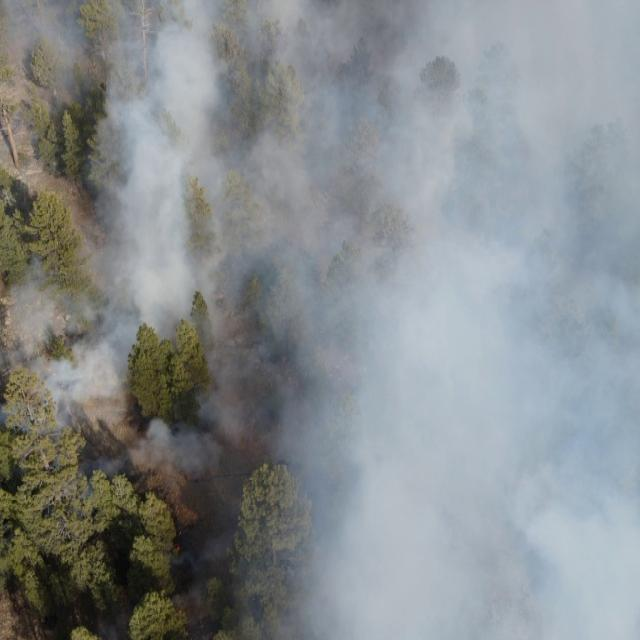fire: (173, 528, 183, 556)
smoke: (202, 332, 640, 640), (0, 0, 640, 179), (70, 179, 640, 333), (0, 263, 131, 523), (130, 416, 202, 480)
